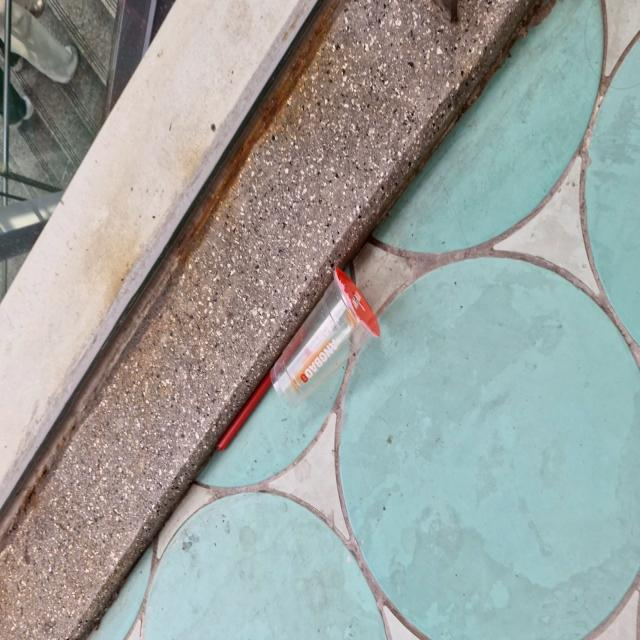plastic cup: (269, 256, 375, 409)
